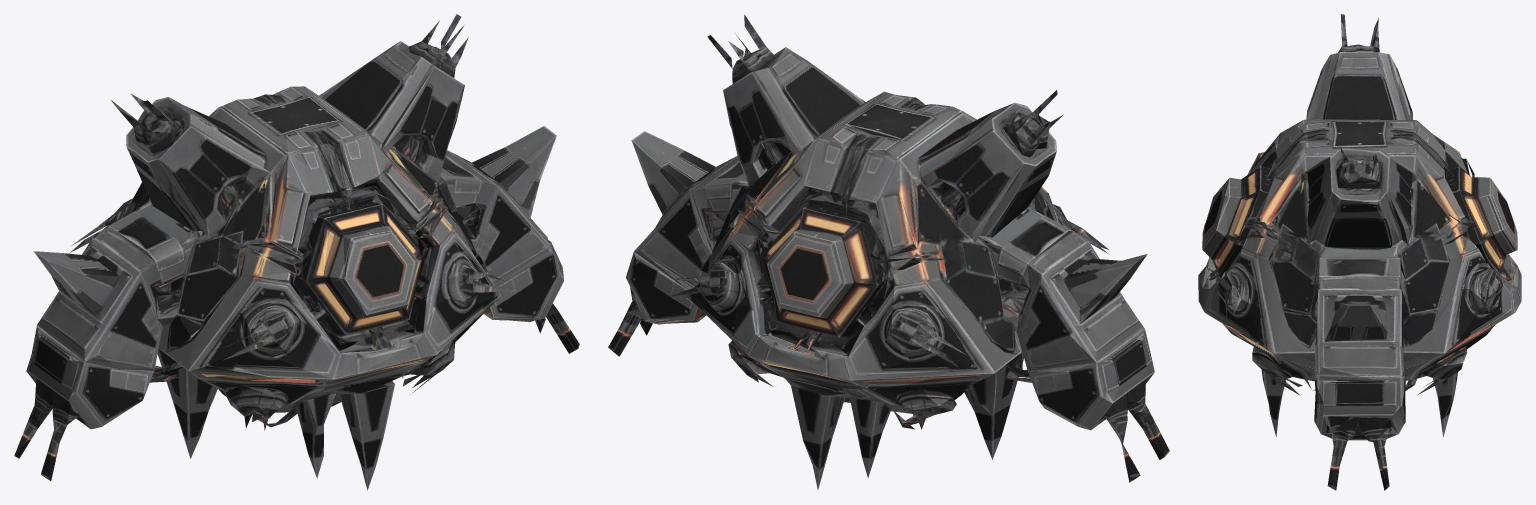
Rendered from Boss2-v2.glb.
3 views of the same model, side by side, from view 1: azimuth 30°, elevation 25°; view 2: azimuth 150°, elevation 25°; view 3: azimuth 270°, elevation 25° (orthographic). The views are drawn at different scales.
Parts seen in each view (by area): view 1: output_unwrapped; view 2: output_unwrapped; view 3: output_unwrapped.
Boxes of the visible parts, x1,y1,x2,y2 form: output_unwrapped: (14,14,579,490); output_unwrapped: (608,14,1169,489); output_unwrapped: (1198,14,1521,490).
Size of the model in its own units: 1.9 by 1.38 by 1.16.
Materials: 1 (1 with a texture image).
